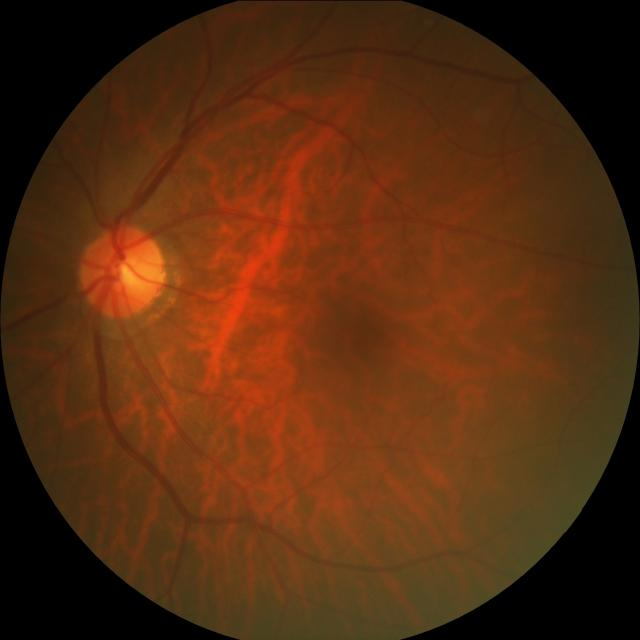OC: (110, 256, 141, 288)
OD: (77, 224, 166, 318)
